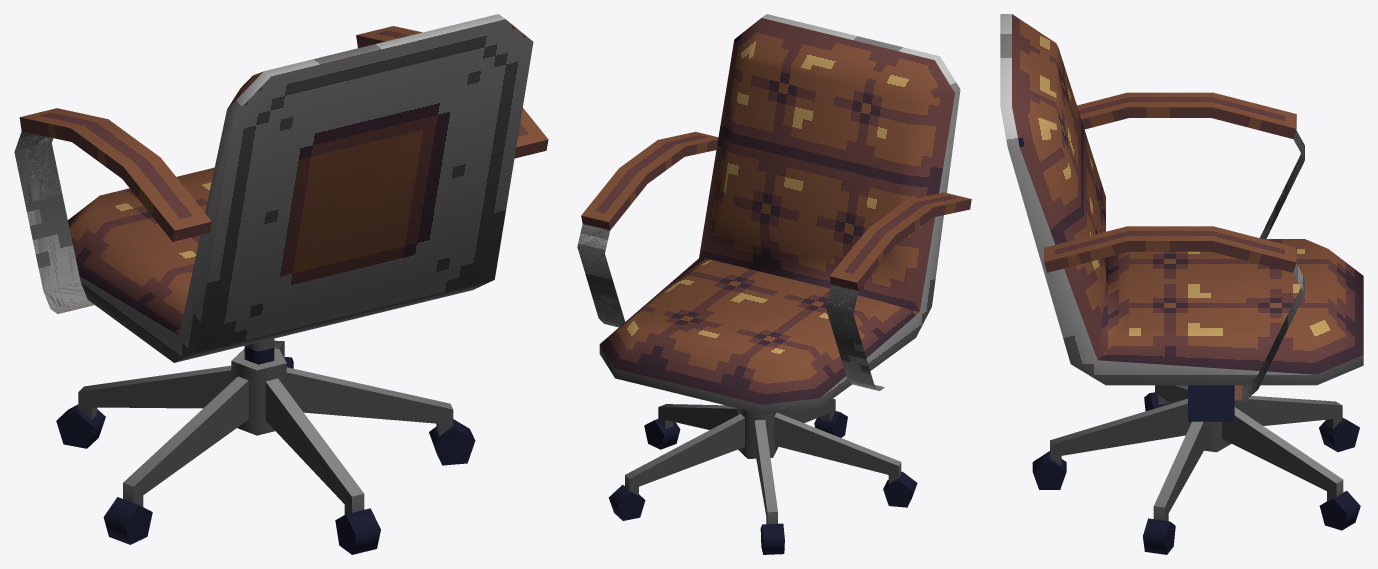
Rendered from SM_Seat.fbx.
3 views of the same model, side by side, from view 1: azimuth 30°, elevation 25°; view 2: azimuth 150°, elevation 25°; view 3: azimuth 270°, elevation 25° (orthographic). The views are drawn at different scales.
Parts seen in each view (by area): view 1: Seat.001; view 2: Seat.001; view 3: Seat.001.
Part boxes in pixels (x1=…): Seat.001: x1=14, y1=14, x2=548, y2=554; Seat.001: x1=577, y1=14, x2=971, y2=554; Seat.001: x1=1000, y1=14, x2=1363, y2=554.
Size of the model in its own units: 93.75 by 125 by 96.87.
